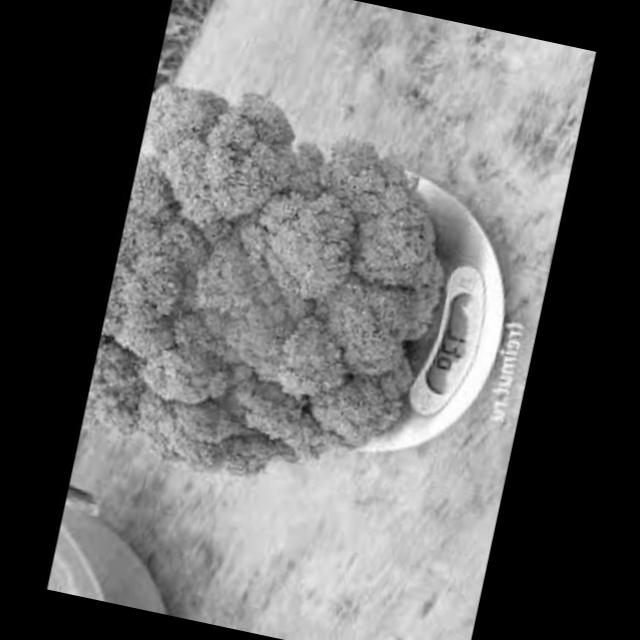broccoli: (84, 66, 459, 508)
